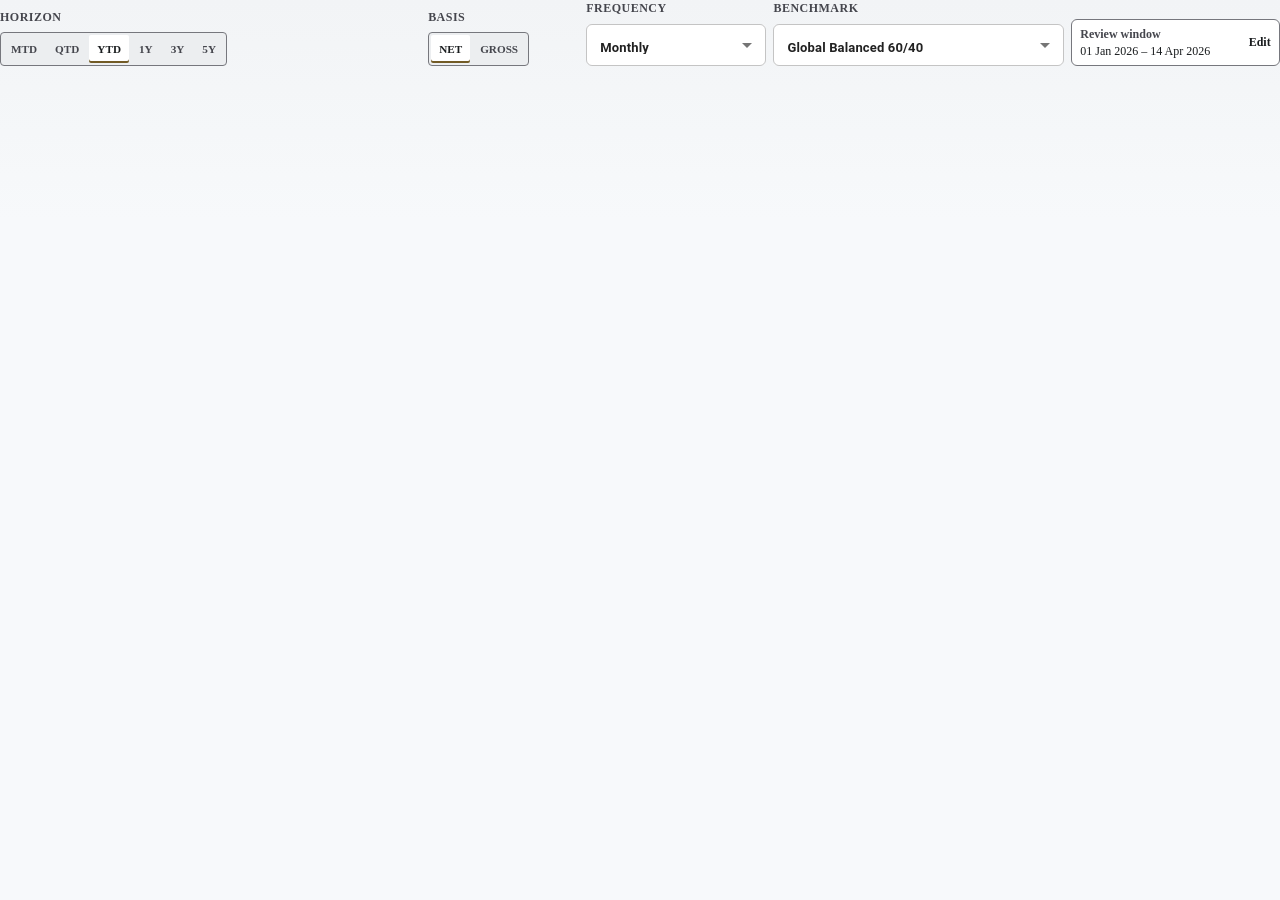
Test: PerformanceSourceSelectionControls › discards dialog drafts on Cancel and Escape without requesting a source refresh
This screenshot has width=1280, height=900.
Click the button "Review window 01 Jan 2026 – 14 Apr 2026" at point(1176, 43), box [1071,19,1279,66]
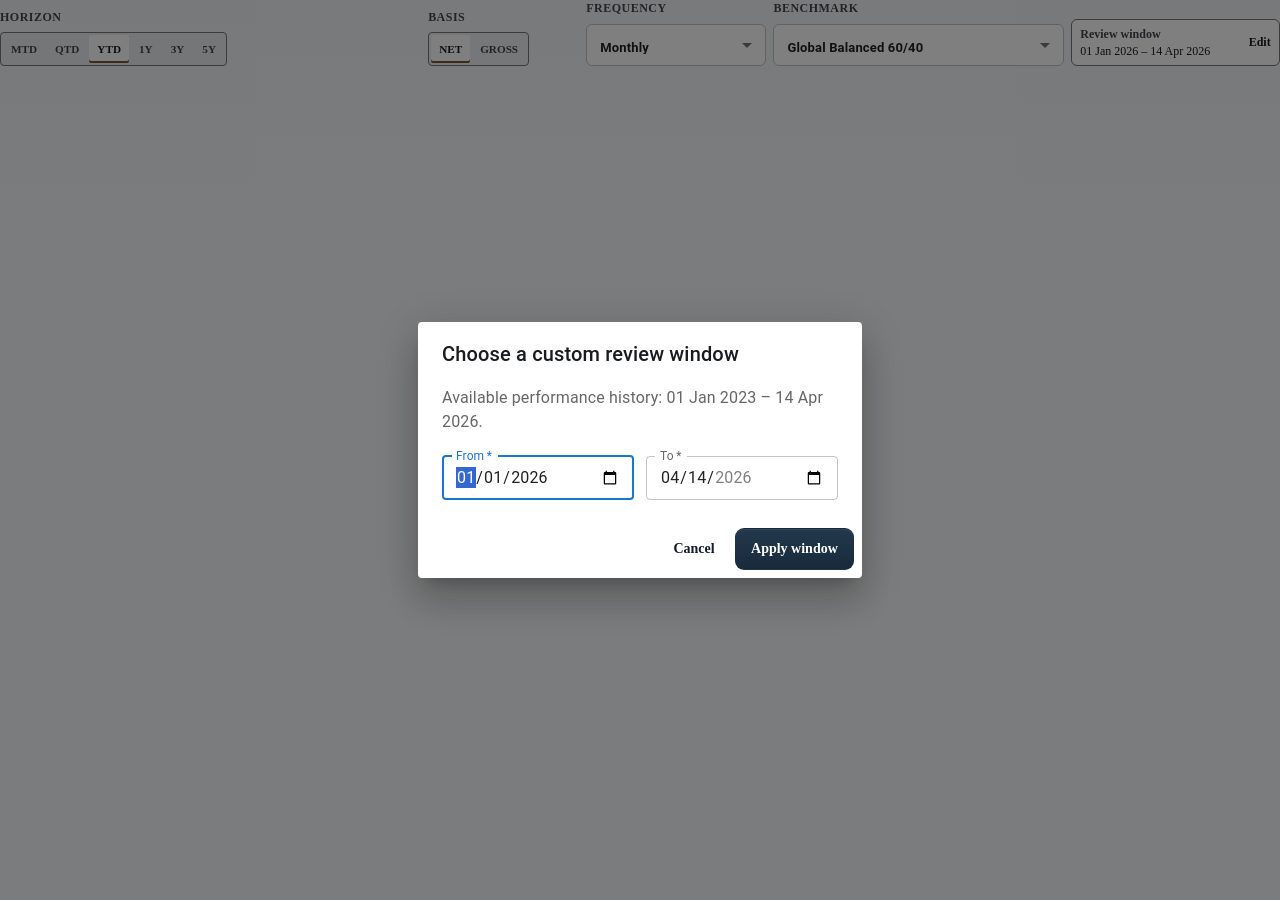
Type "2026-02-01" into the date field labelled "From *" at point(538, 478), box [442,458,634,498]
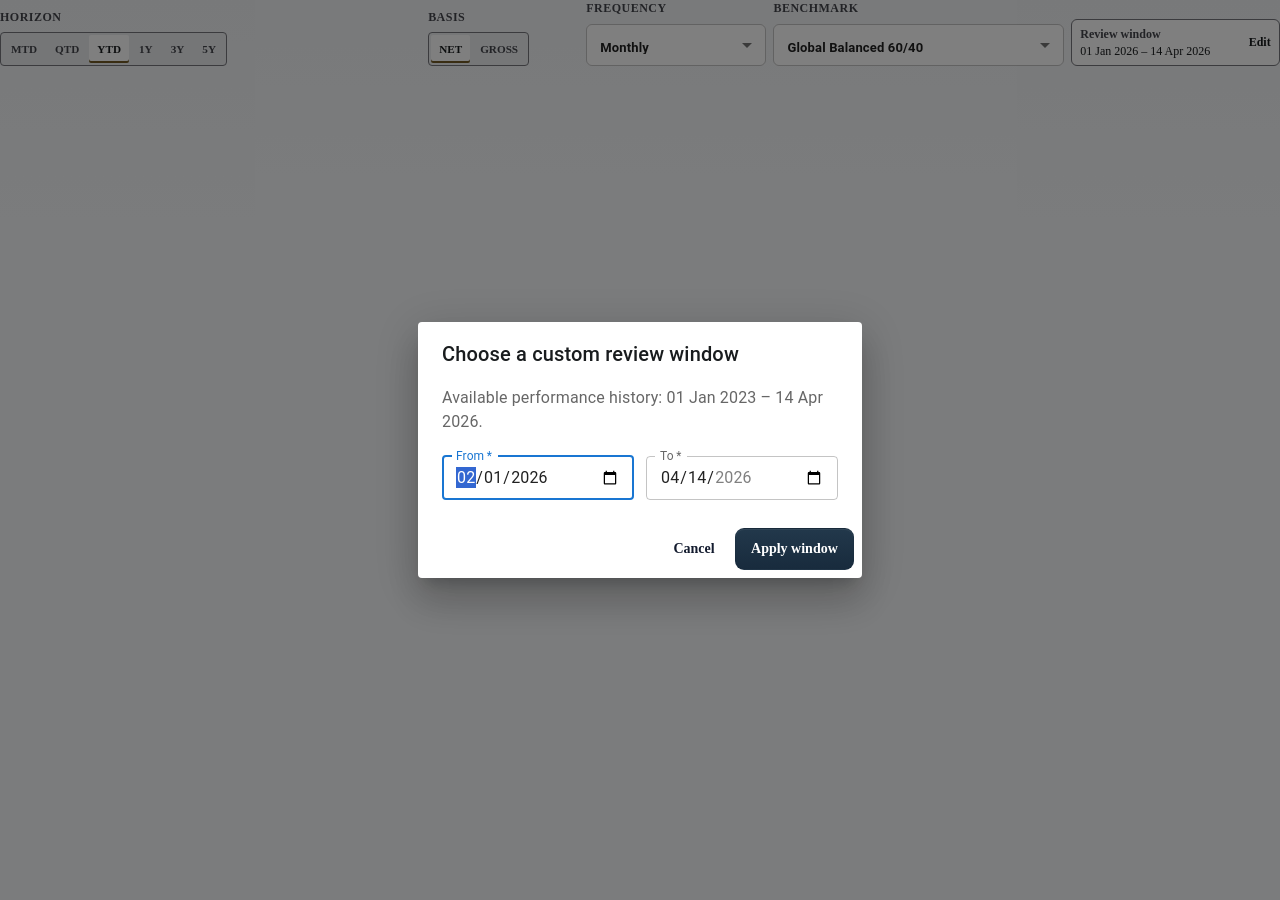
Click the button "Cancel" at point(694, 549), box [669,528,719,570]
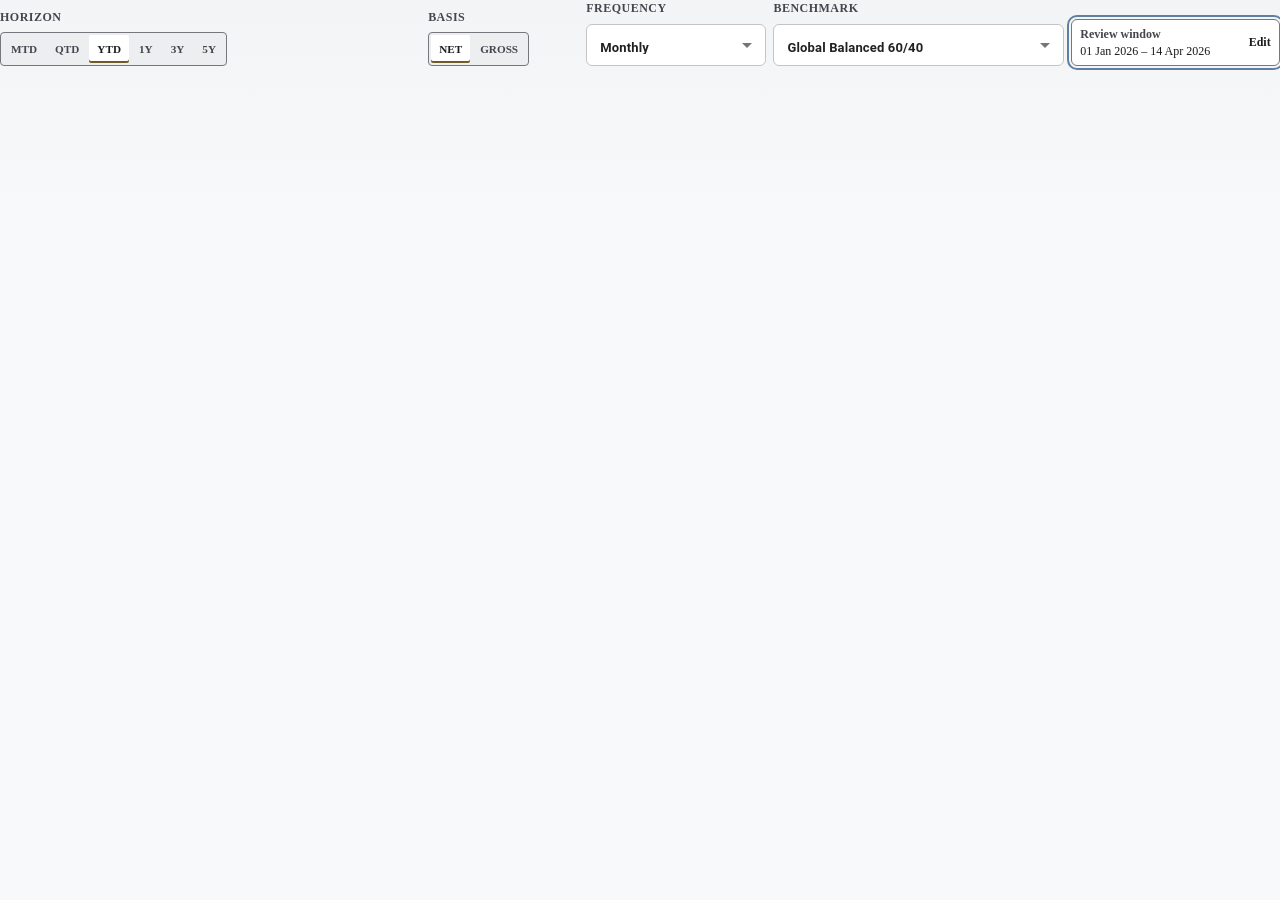
Expected: the dialog is gone
Click the button "Review window 01 Jan 2026 – 14 Apr 2026" at point(1176, 43), box [1071,19,1279,66]
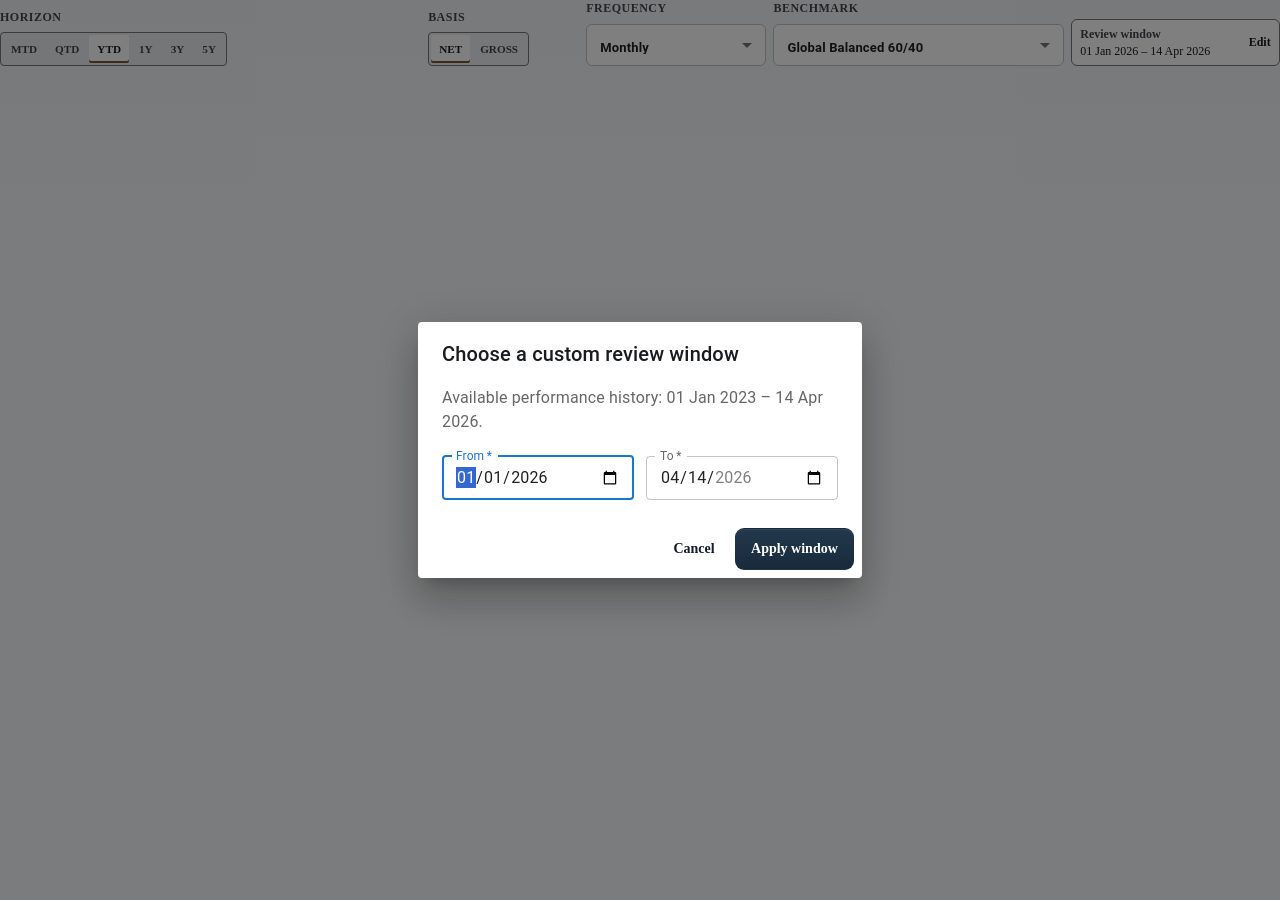
Expected: the date field labelled "From *" holds "2026-01-01", [442,458,634,498]
Type "2026-03-31" into the date field labelled "To *" at point(742, 478), box [646,458,838,498]
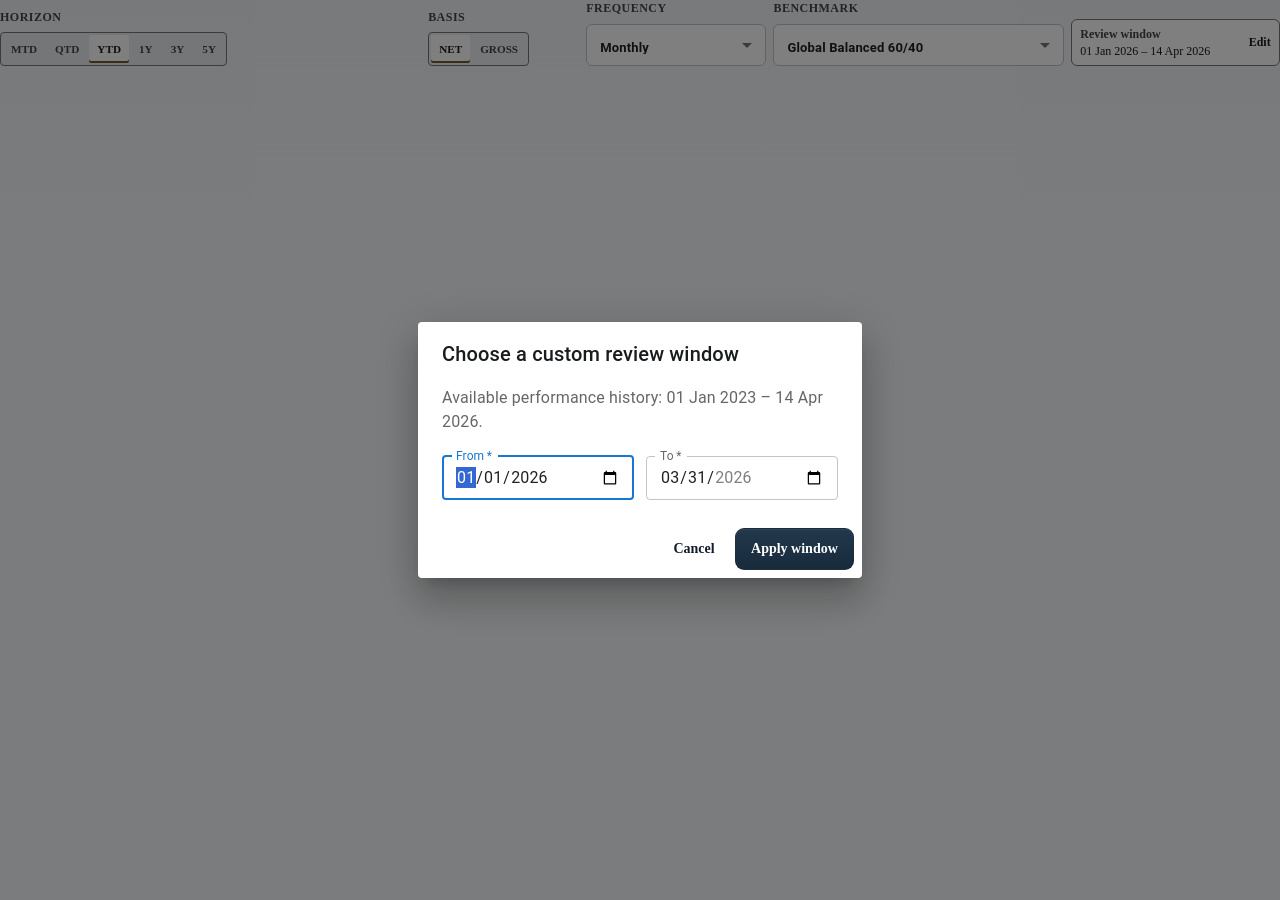
Press Escape in the dialog, box [418,322,862,578]
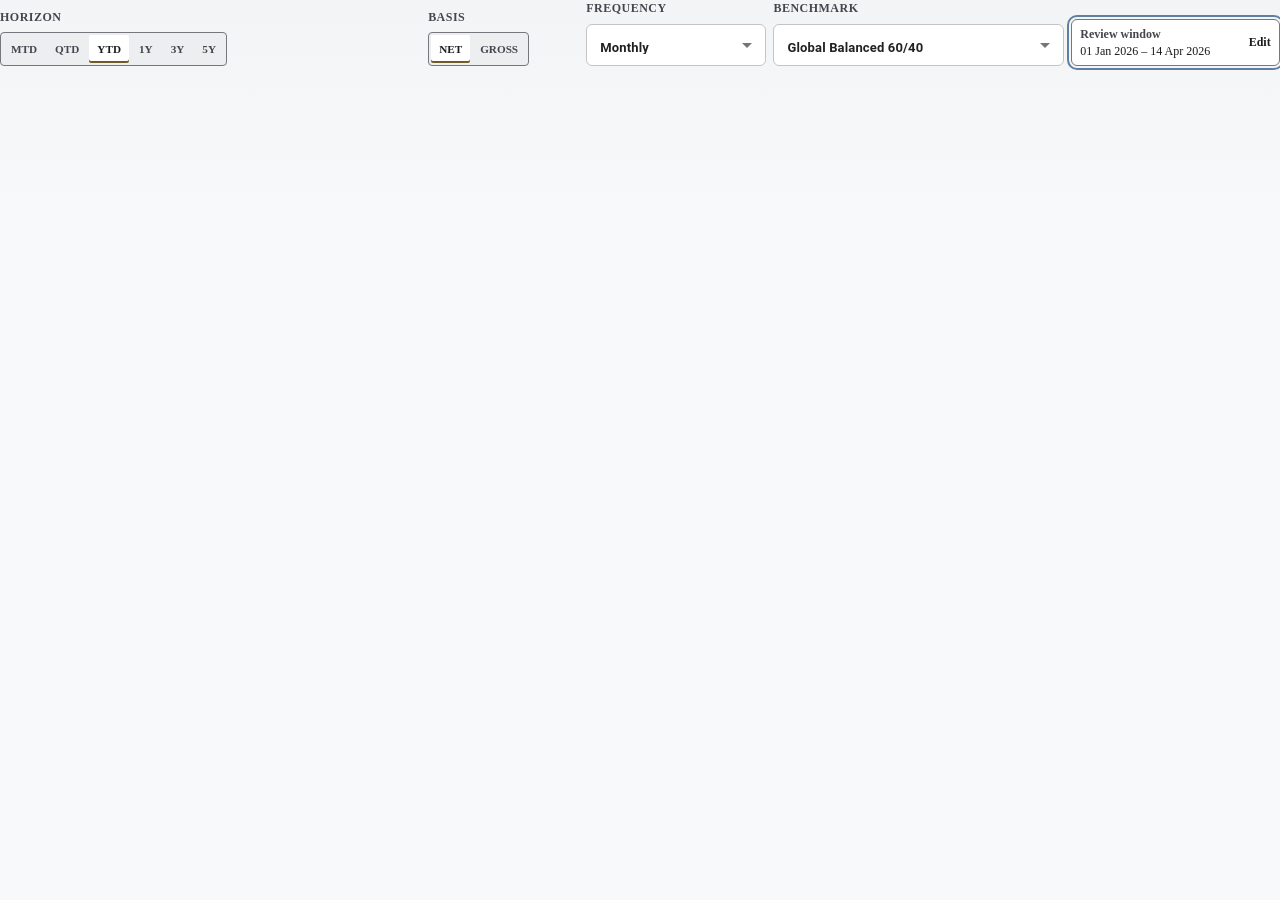
Expected: the dialog is gone
